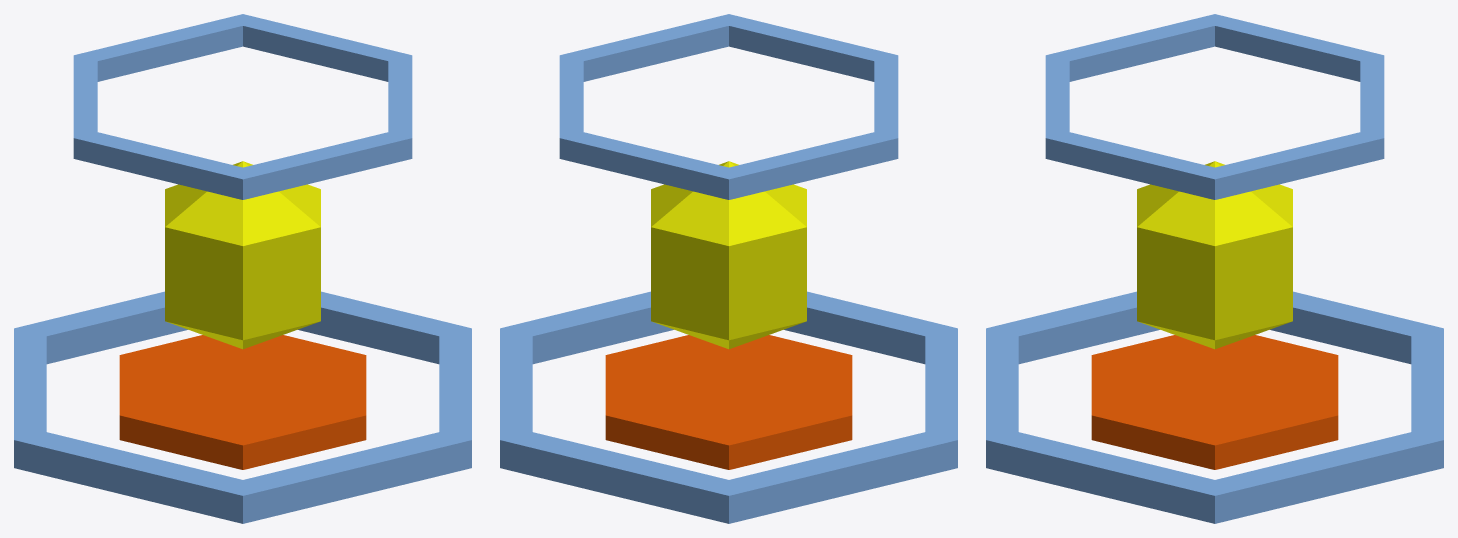
File: lamp3.fbx
3 renders of one model, left to right at view 1: azimuth 30°, elevation 25°; view 2: azimuth 150°, elevation 25°; view 3: azimuth 270°, elevation 25°, orthographic.
Parts seen in each view (by area): view 1: PR_floorlamp_03, PR_floorlamp_03_cell.013, PR_floorlamp_03_cell.012, PR_floorlamp_03_cell.010, PR_floorlamp_03_cell.016, PR_floorlamp_03_cell.015, PR_floorlamp_03_cell.004, PR_floorlamp_03_cell.008, PR_floorlamp_03_cell.003, PR_floorlamp_03_cell.006, PR_floorlamp_03_cell.009, PR_floorlamp_03_cell.001 (+1 smaller); view 2: PR_floorlamp_03, PR_floorlamp_03_cell.001, PR_floorlamp_03_cell.004, PR_floorlamp_03_cell.009, PR_floorlamp_03_cell.006, PR_floorlamp_03_cell.012, PR_floorlamp_03_cell.015, PR_floorlamp_03_cell.016, PR_floorlamp_03_cell.013, PR_floorlamp_03_cell.008, PR_floorlamp_03_cell.003; view 3: PR_floorlamp_03, PR_floorlamp_03_cell.009, PR_floorlamp_03_cell.004, PR_floorlamp_03_cell.015, PR_floorlamp_03_cell.016, PR_floorlamp_03_cell.001, PR_floorlamp_03_cell.010, PR_floorlamp_03_cell.012, PR_floorlamp_03_cell.008, PR_floorlamp_03_cell.013, PR_floorlamp_03_cell.003, PR_floorlamp_03_cell.006 (+1 smaller).
Part boxes in pixels (x1,y1,x2,y2): PR_floorlamp_03: (14,14,471,519); PR_floorlamp_03_cell.013: (14,424,253,520); PR_floorlamp_03_cell.012: (119,373,290,469); PR_floorlamp_03_cell.010: (231,389,471,523); PR_floorlamp_03_cell.016: (323,308,471,387); PR_floorlamp_03_cell.015: (230,354,366,413); PR_floorlamp_03_cell.004: (74,108,412,199); PR_floorlamp_03_cell.008: (14,310,154,409); PR_floorlamp_03_cell.003: (264,401,366,464); PR_floorlamp_03_cell.006: (165,202,320,349); PR_floorlamp_03_cell.009: (167,161,320,235); PR_floorlamp_03_cell.001: (86,41,412,107); PR_floorlamp_03: (500,29,957,523); PR_floorlamp_03_cell.001: (559,29,839,199); PR_floorlamp_03_cell.004: (667,14,898,168); PR_floorlamp_03_cell.009: (651,161,776,331); PR_floorlamp_03_cell.006: (682,184,806,349); PR_floorlamp_03_cell.012: (717,346,852,405); PR_floorlamp_03_cell.015: (606,335,762,396); PR_floorlamp_03_cell.016: (500,301,638,364); PR_floorlamp_03_cell.013: (915,328,957,471); PR_floorlamp_03_cell.008: (687,448,907,491); PR_floorlamp_03_cell.003: (740,335,816,353); PR_floorlamp_03: (986,14,1443,523); PR_floorlamp_03_cell.009: (1137,161,1292,335); PR_floorlamp_03_cell.004: (1045,15,1214,152); PR_floorlamp_03_cell.015: (1120,389,1298,469); PR_floorlamp_03_cell.016: (1104,454,1331,523); PR_floorlamp_03_cell.001: (1102,35,1384,199); PR_floorlamp_03_cell.010: (986,432,1108,497); PR_floorlamp_03_cell.012: (1091,335,1226,388); PR_floorlamp_03_cell.008: (1270,291,1411,364); PR_floorlamp_03_cell.013: (987,291,1156,362); PR_floorlamp_03_cell.003: (1091,372,1131,447); PR_floorlamp_03_cell.006: (1137,185,1260,349).
Size of the model in its own units: 371 by 244 by 321.
